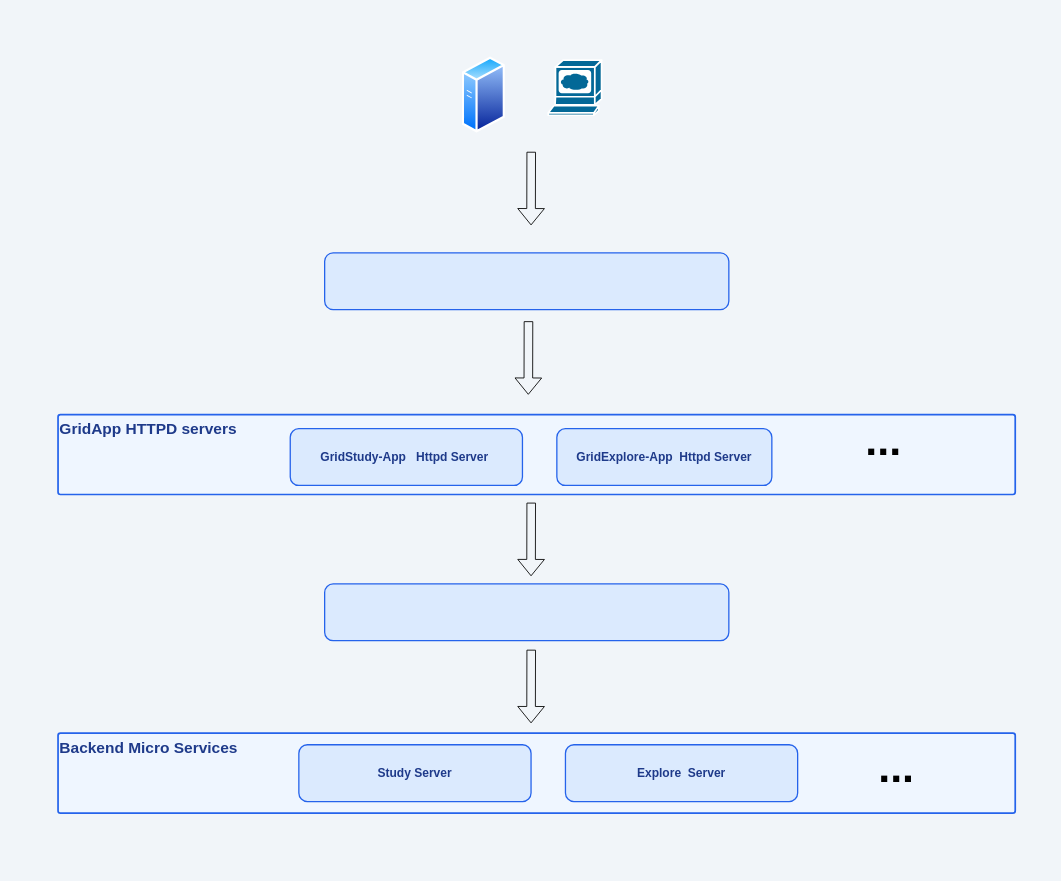
This 1061x881 diagram has some shape labels left out. Each missing label, with the centre of its shape:
"Gateway" belongs at pixel 526 612.
"Ingress Controller" belongs at pixel 526 281.
